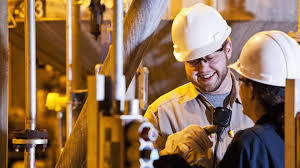Person_wearing_helmet: (167, 1, 231, 71)
